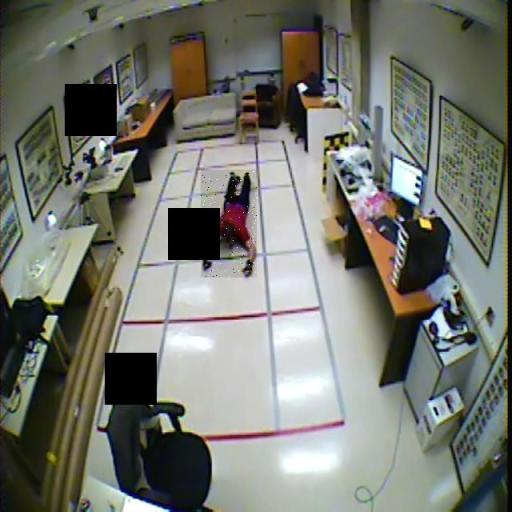Fall: (201, 170, 257, 278)
